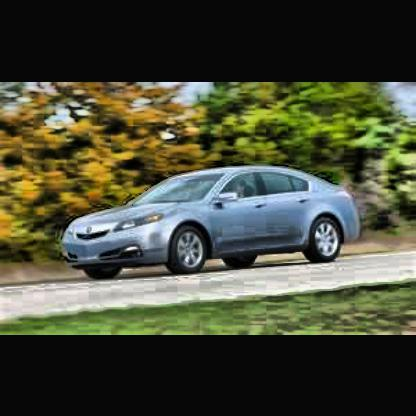Acura TL Sedan 2012: (36, 159, 385, 290)
